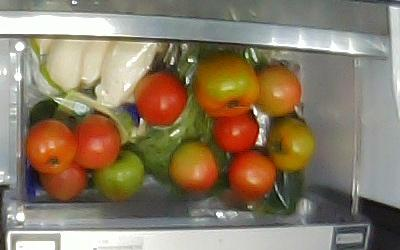tomato: (193, 53, 260, 118), (134, 71, 188, 126), (72, 112, 120, 169), (26, 118, 75, 173), (267, 117, 315, 172), (95, 148, 143, 201), (254, 66, 301, 118), (170, 141, 218, 191), (229, 149, 276, 200), (213, 109, 259, 152), (39, 162, 86, 202)
